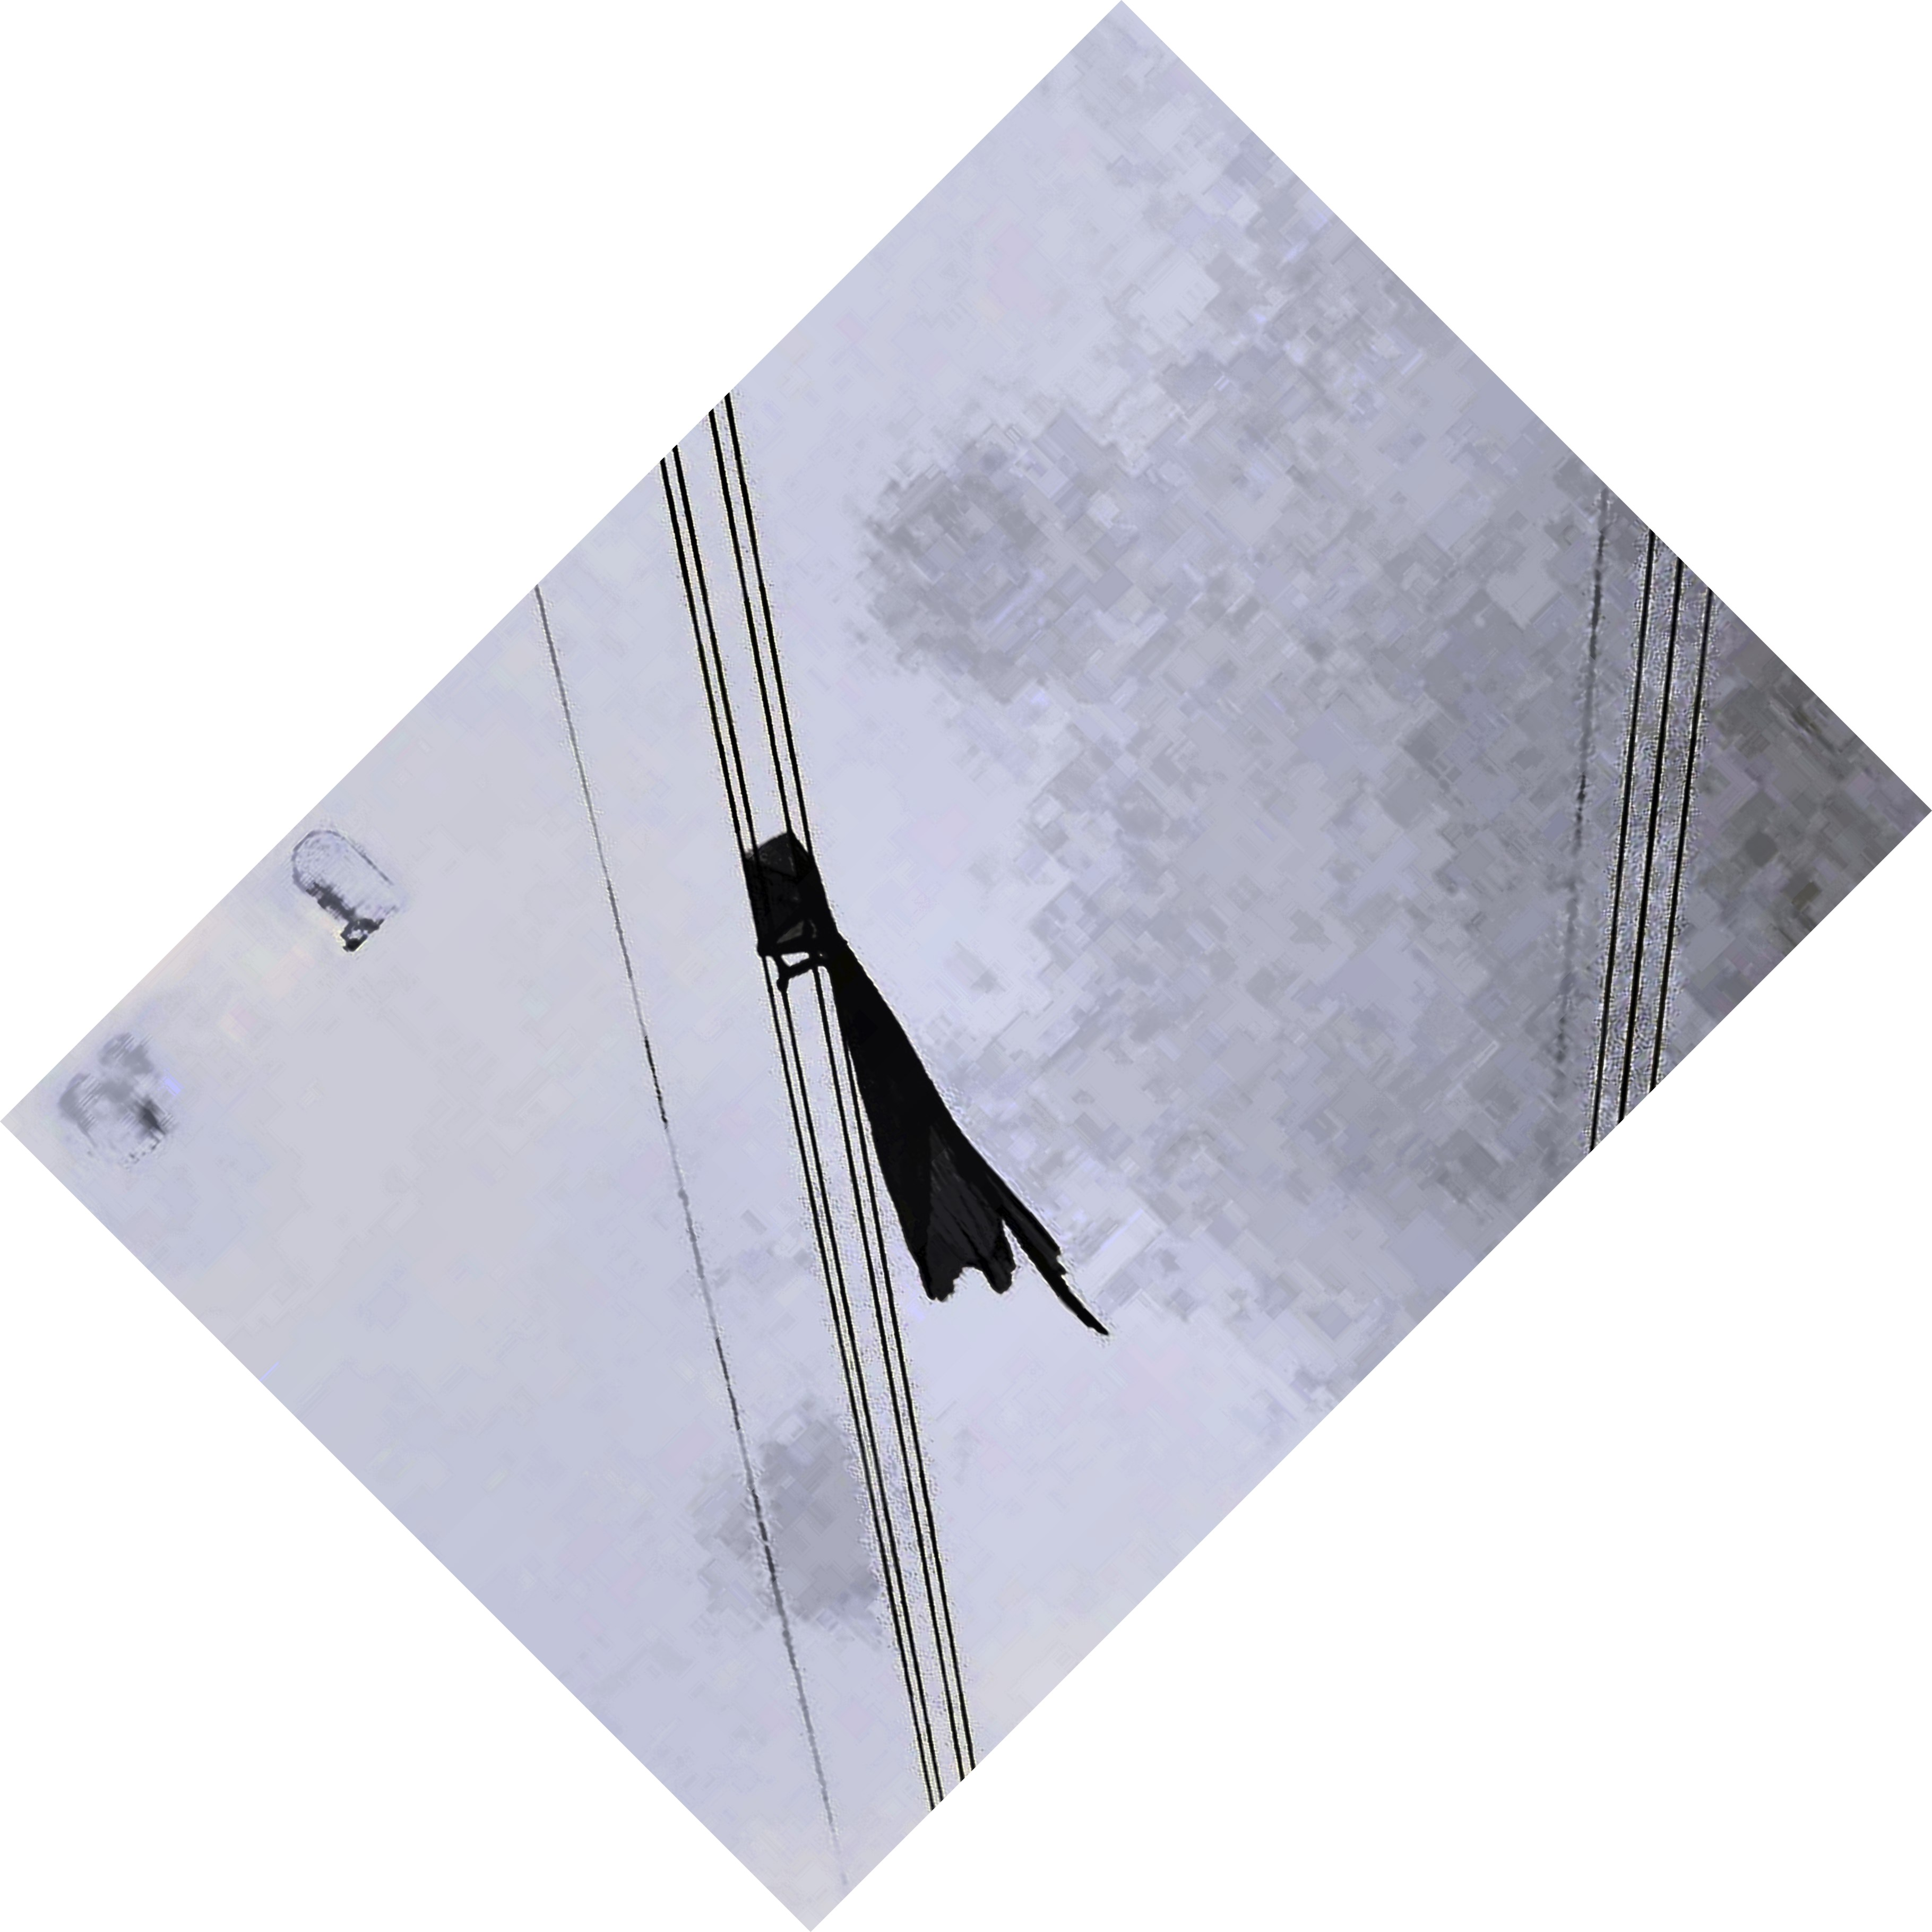wire foreign body: (720, 832, 1095, 1334)
